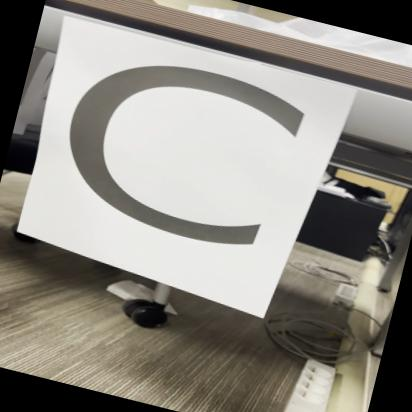seat: (20, 17, 333, 318)
